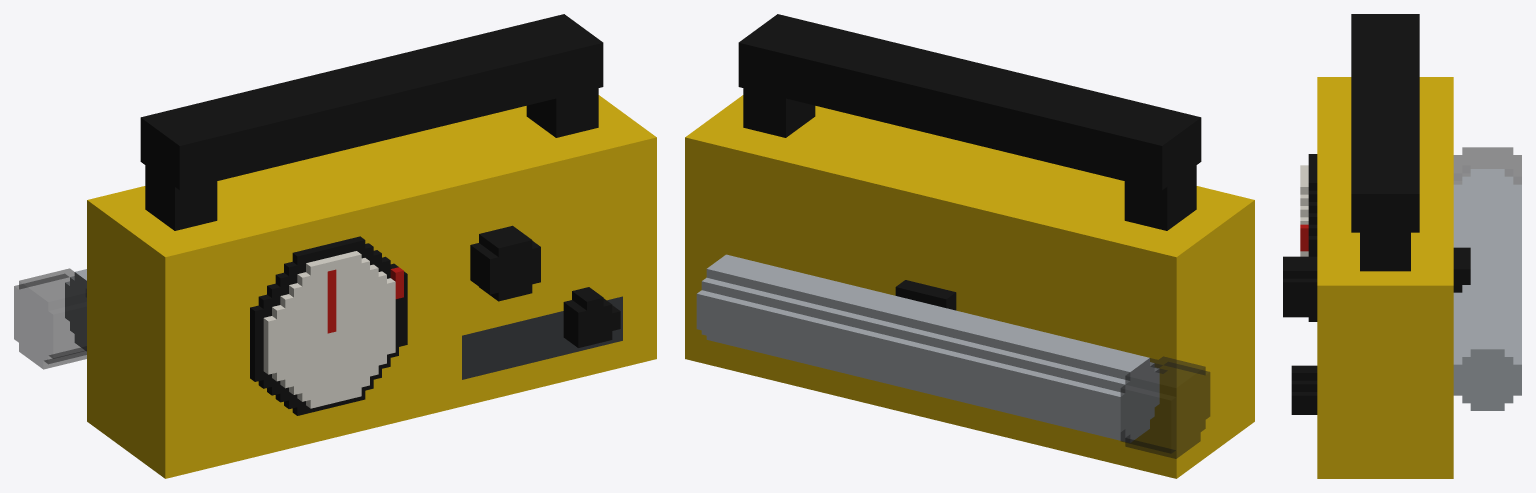
The model's file is geiger_counter.glb.
3 views of the same model, side by side, from view 1: azimuth 30°, elevation 25°; view 2: azimuth 150°, elevation 25°; view 3: azimuth 270°, elevation 25° (orthographic). The views are drawn at different scales.
Visible parts, largest first — view 1: geiger_counter:compound; view 2: geiger_counter:compound; view 3: geiger_counter:compound.
Part boxes in pixels (left/top/right/bottom): geiger_counter:compound: left=14, top=14, right=656, bottom=478; geiger_counter:compound: left=685, top=14, right=1254, bottom=478; geiger_counter:compound: left=1283, top=14, right=1521, bottom=478.
Size of the model in its own units: 0.124 by 0.07 by 0.056.
